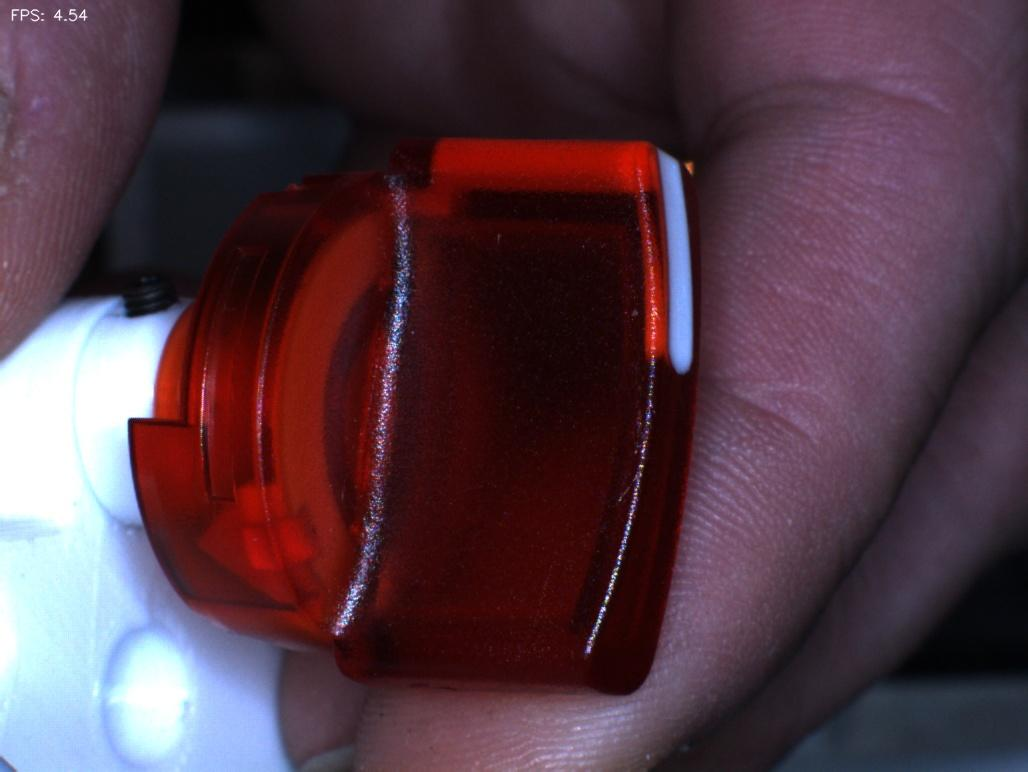Givrage: (595, 386, 665, 516)
